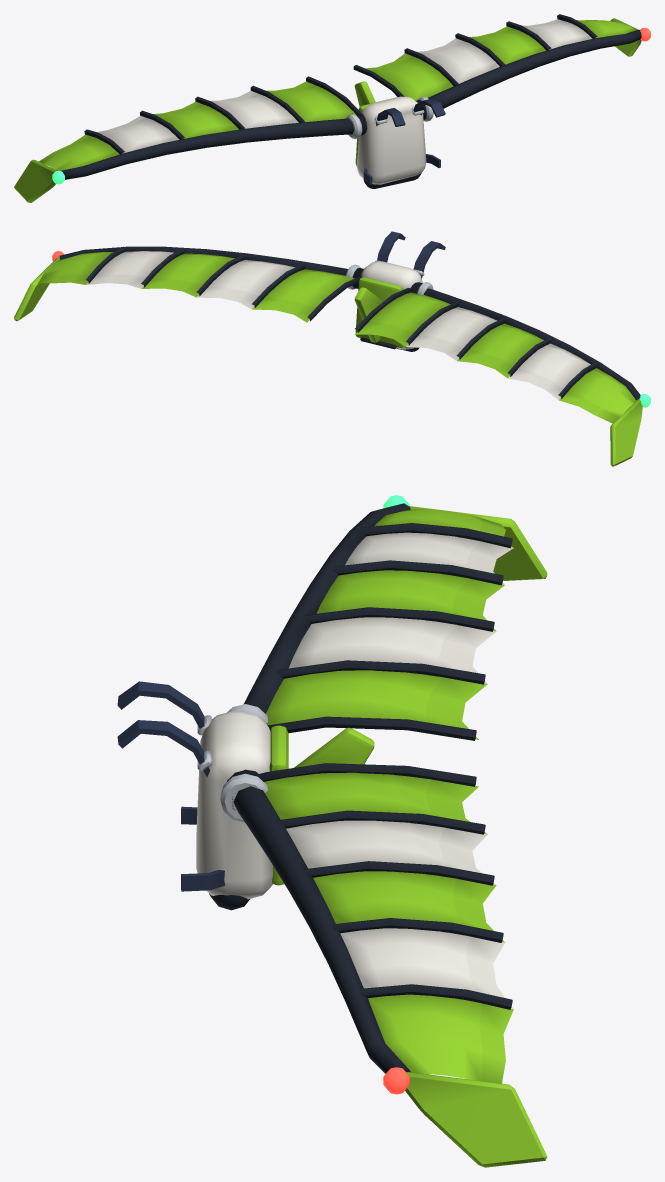
The model's file is flight-wing.glb.
The picture shows the model from 3 angles, top to bottom: view 1: azimuth 30°, elevation 25°; view 2: azimuth 150°, elevation 25°; view 3: azimuth 270°, elevation 25°; orthographic projection. The views are drawn at different scales.
Parts seen in each view (by area): view 1: Trail wings Race lime, Trail wings Carbon frame, Trail wings Cloud white, Trail wings Harness webbing, Trail wings Buckle alloy; view 2: Trail wings Race lime, Trail wings Carbon frame, Trail wings Cloud white, Trail wings Harness webbing; view 3: Trail wings Race lime, Trail wings Carbon frame, Trail wings Cloud white, Trail wings Harness webbing, Trail wings Buckle alloy.
Boxes of the visible parts, x1,y1,x2,y2 form: Trail wings Race lime: [14, 18, 641, 202]; Trail wings Carbon frame: [61, 14, 641, 188]; Trail wings Cloud white: [356, 96, 426, 184]; Trail wings Harness webbing: [363, 98, 445, 184]; Trail wings Buckle alloy: [346, 96, 433, 138]; Trail wings Race lime: [14, 251, 642, 466]; Trail wings Carbon frame: [59, 246, 640, 400]; Trail wings Cloud white: [361, 261, 422, 349]; Trail wings Harness webbing: [377, 231, 445, 278]; Trail wings Race lime: [264, 506, 547, 1167]; Trail wings Carbon frame: [209, 503, 512, 1073]; Trail wings Cloud white: [196, 711, 273, 899]; Trail wings Harness webbing: [117, 681, 225, 891]; Trail wings Buckle alloy: [197, 704, 267, 822].
Size of the model in its own units: 5.02 by 0.7361 by 1.54.
